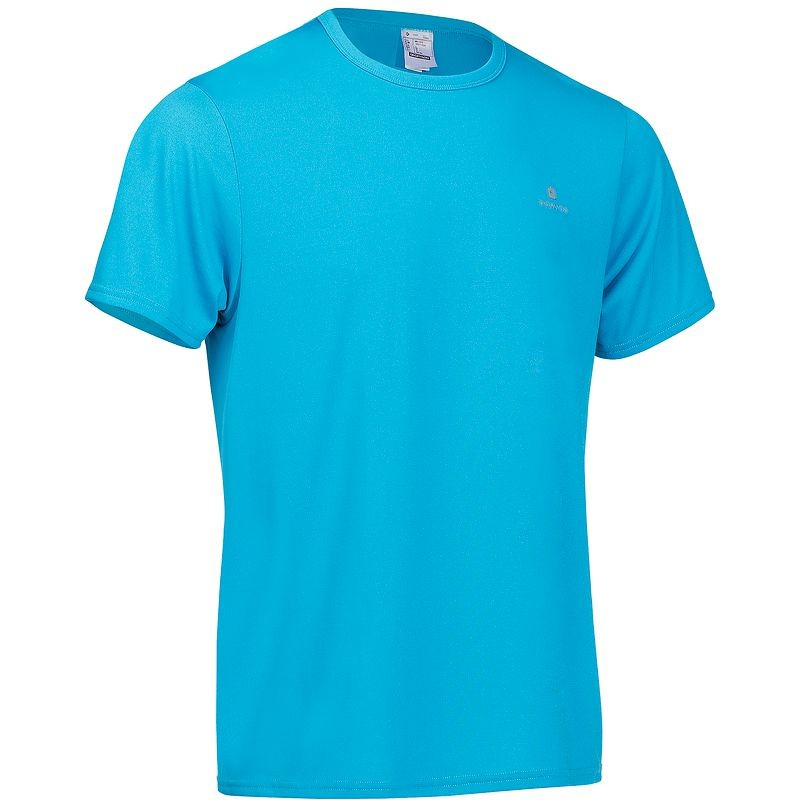T-Shirt: (75, 4, 717, 796)
